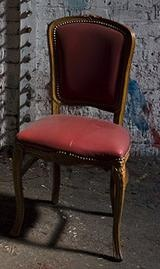obstacle: (17, 16, 134, 259)
